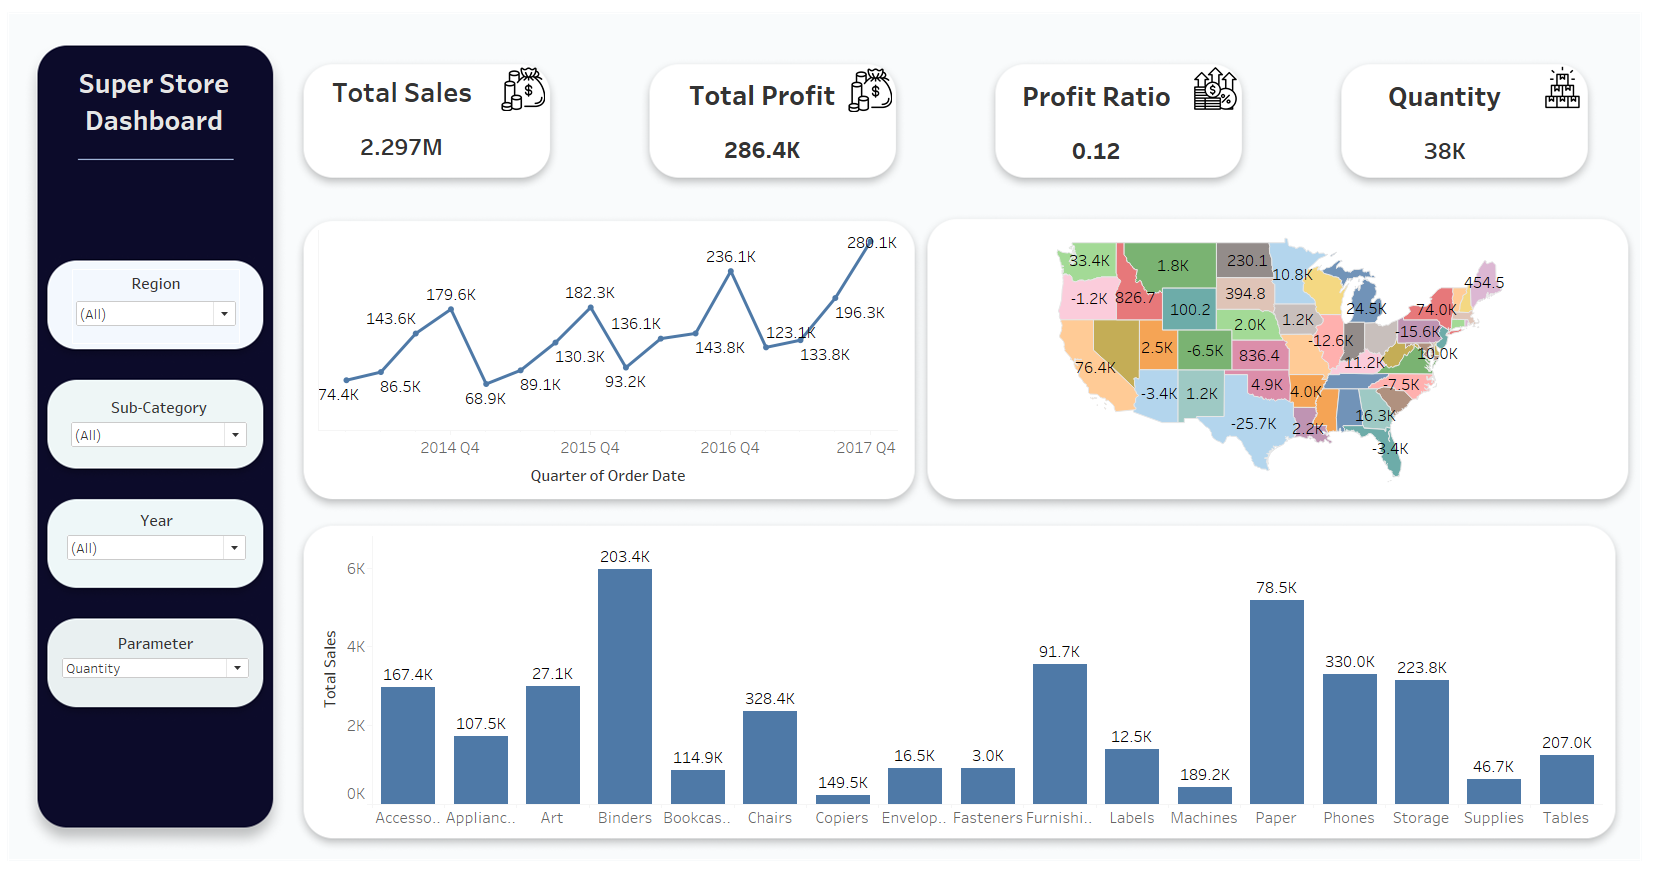

The dashboard page shown, as its layout file describes it:
{"tool":"tableau","page":{"name":"Dashboard_1 ","canvas":[1659,861],"ordinal":1},"visuals":[{"type":"text","box":[52,37,188,104]},{"type":"image","param":"D:/Super Store.twb Files/Image/quantity.png","box":[1532,53,75,44]},{"type":"image","param":"D:/Super Store.twb Files/Image/interest-rate (1).png","box":[1185,54,75,44]},{"type":"image","param":"D:/Super Store.twb Files/Image/money-bag.png","box":[493,55,75,44]},{"type":"image","param":"D:/Super Store.twb Files/Image/money-bag.png","box":[840,56,75,44]},{"type":"worksheet","title":"Total Sales","mark":"Automatic","box":[305,60,179,92]},{"type":"worksheet","title":"Total Profit","mark":"Automatic","box":[676,62,157,94]},{"type":"worksheet","title":"Quantity","mark":"Automatic","box":[1347,62,180,96]},{"type":"worksheet","title":"Profit Ratio","mark":"Automatic","box":[1005,65,168,90]},{"type":"worksheet","title":"Map","mark":"Multipolygon","box":[937,214,669,268]},{"type":"worksheet","title":"Date","mark":"Automatic","rows":["Sales"],"cols":["Order Date"],"box":[310,218,580,263]},{"type":"filter","title":"Map","param":"[federated.0mw3xzp0fvqyzx1asfxdl19n97iq].[none:Region:nk]","box":[64,257,168,75]},{"type":"filter","title":"Date","param":"[federated.0mw3xzp0fvqyzx1asfxdl19n97iq].[none:Sub-Category:nk]","box":[60,385,182,66]},{"type":"filter","title":"Parameters","param":"[federated.0mw3xzp0fvqyzx1asfxdl19n97iq].[yr:Order Date:ok]","box":[56,498,185,70]},{"type":"worksheet","title":"Parameters","mark":"Automatic","rows":["Calculation_1377820049551781891"],"cols":["Sub-Category"],"box":[304,524,1291,293]},{"type":"parameter","param":"[Parameters].[Sub-Category Parameter]","box":[51,621,193,65]}]}

Visuals, with their boxes in screenshot pixels (x1, y1, x2, y2), scaled from the page's 1659x861 canvas onto the 1655x878 screenshot:
text: <box>52,38,239,144</box>
image: <box>1528,54,1603,99</box>
image: <box>1182,55,1257,100</box>
image: <box>492,56,567,101</box>
image: <box>838,57,913,102</box>
"Total Sales" worksheet: <box>304,61,483,155</box>
"Total Profit" worksheet: <box>674,63,831,159</box>
"Quantity" worksheet: <box>1344,63,1523,161</box>
"Profit Ratio" worksheet: <box>1003,66,1170,158</box>
"Map" worksheet (Multipolygon marks): <box>935,218,1602,492</box>
"Date" worksheet: <box>309,222,888,490</box>
"Map" filter: <box>64,262,231,339</box>
"Date" filter: <box>60,393,241,460</box>
"Parameters" filter: <box>56,508,240,579</box>
"Parameters" worksheet: <box>303,534,1591,833</box>
parameter: <box>51,633,243,700</box>
